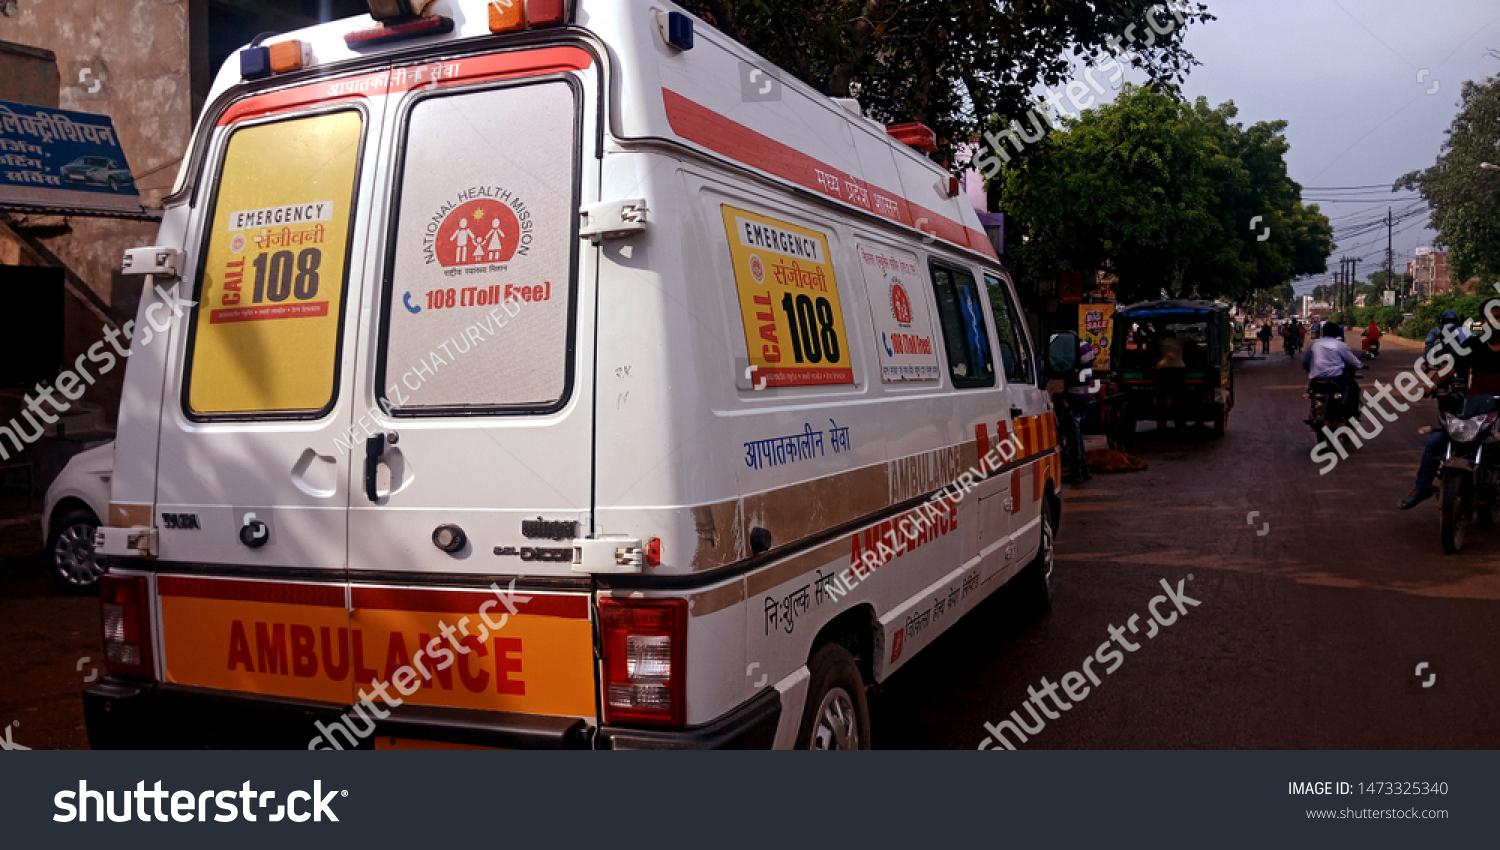ER: (111, 0, 1066, 758)
